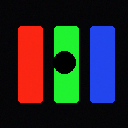2 circle: (53, 51, 75, 73)
